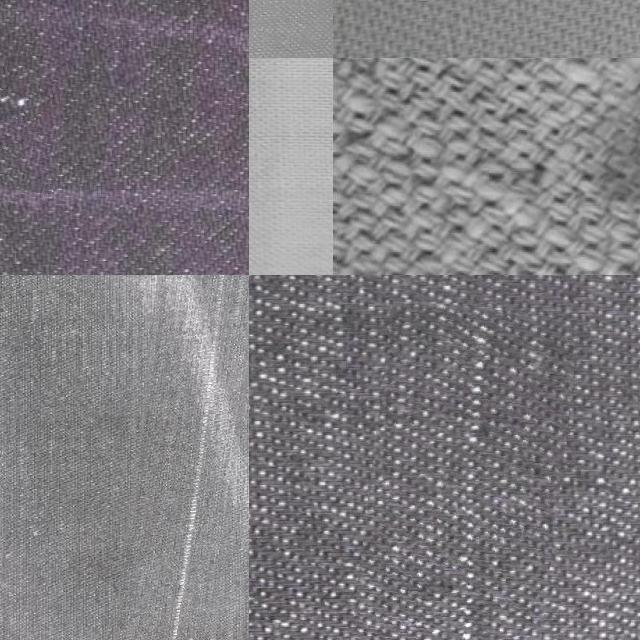stains: (338, 301, 562, 640), (111, 275, 249, 640), (0, 26, 66, 186)
